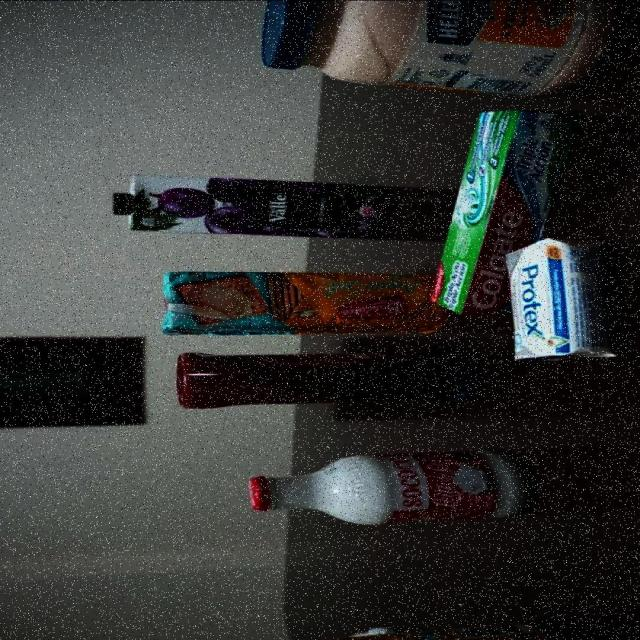ChocolatePowder: (212, 620, 589, 640)
CoconutMilk: (244, 448, 538, 526)
Cracker: (159, 270, 453, 334)
Ketchup: (175, 349, 482, 408)
Mayonnaise: (259, 0, 623, 98)
Soap: (502, 237, 626, 365)
Toothpaste: (428, 107, 518, 315)
